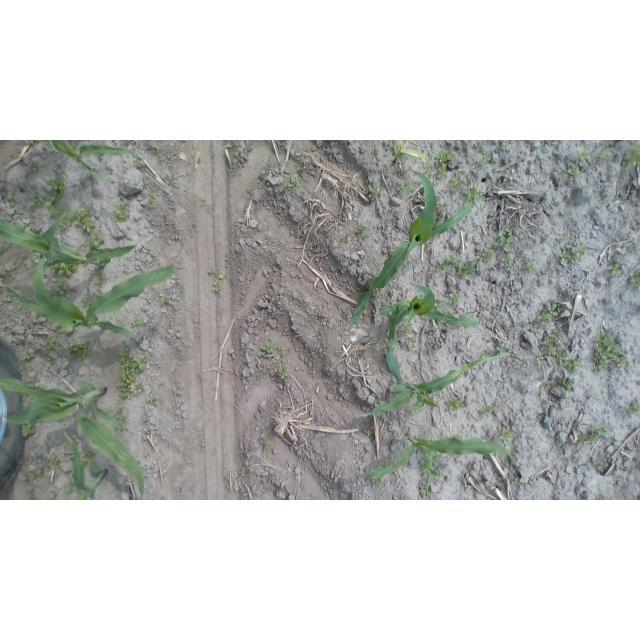Maize: (345, 172, 476, 329), (0, 377, 146, 500), (0, 261, 176, 339), (358, 341, 504, 418), (363, 433, 514, 488), (0, 213, 140, 270), (378, 281, 483, 344), (44, 140, 137, 182), (62, 430, 109, 500), (389, 140, 432, 172)
Weeds: (115, 348, 149, 400), (592, 331, 627, 374), (41, 178, 66, 219), (437, 255, 479, 277), (61, 207, 96, 233), (259, 341, 287, 363), (577, 425, 609, 444), (65, 342, 91, 365), (621, 142, 640, 169), (434, 151, 452, 178), (495, 228, 514, 253), (559, 243, 585, 261), (209, 267, 226, 294), (51, 261, 78, 276), (538, 303, 558, 321), (92, 268, 109, 288), (446, 397, 467, 412), (90, 233, 107, 251), (463, 186, 482, 202), (115, 203, 130, 223), (54, 280, 72, 296), (113, 405, 124, 431), (553, 347, 568, 366), (578, 148, 592, 167), (499, 427, 514, 444), (566, 166, 582, 181), (396, 181, 413, 195), (366, 184, 380, 201), (479, 404, 496, 418), (567, 357, 581, 374), (626, 400, 640, 416), (477, 151, 493, 165), (420, 484, 433, 501), (63, 478, 77, 493), (21, 423, 35, 438), (47, 455, 61, 470), (449, 290, 462, 306), (28, 195, 45, 207), (562, 377, 576, 391), (275, 365, 289, 379), (607, 263, 622, 276), (48, 337, 61, 351), (296, 165, 308, 180), (408, 404, 423, 416), (482, 250, 495, 263), (399, 322, 413, 334), (544, 335, 556, 349), (358, 226, 370, 239), (434, 299, 447, 311), (147, 191, 158, 205), (495, 344, 507, 356), (450, 180, 463, 191), (630, 270, 638, 287), (22, 351, 34, 362), (501, 254, 512, 266), (595, 149, 607, 160), (423, 467, 434, 479), (130, 318, 143, 328), (407, 338, 418, 349), (160, 294, 170, 306), (29, 162, 41, 172), (289, 175, 299, 187), (81, 447, 93, 457), (536, 353, 545, 366), (178, 285, 186, 299), (261, 441, 271, 452), (523, 261, 534, 271), (148, 397, 159, 407), (590, 460, 600, 471), (30, 471, 43, 479), (80, 297, 90, 307), (30, 257, 40, 267), (129, 161, 140, 170), (241, 467, 250, 478), (340, 234, 349, 244), (27, 491, 37, 500), (562, 232, 571, 242), (384, 459, 393, 468), (502, 141, 511, 150), (365, 428, 374, 437), (72, 434, 81, 443), (513, 360, 522, 369), (6, 192, 15, 201), (588, 394, 598, 402), (371, 476, 381, 484), (599, 494, 612, 500), (512, 477, 521, 485), (45, 356, 54, 364), (554, 329, 563, 337), (462, 313, 472, 320), (208, 205, 215, 214), (546, 383, 554, 390), (283, 184, 290, 192), (249, 188, 255, 197), (456, 169, 465, 175), (359, 206, 365, 214), (129, 140, 139, 144), (160, 380, 165, 386), (539, 376, 545, 381), (31, 140, 38, 144)
